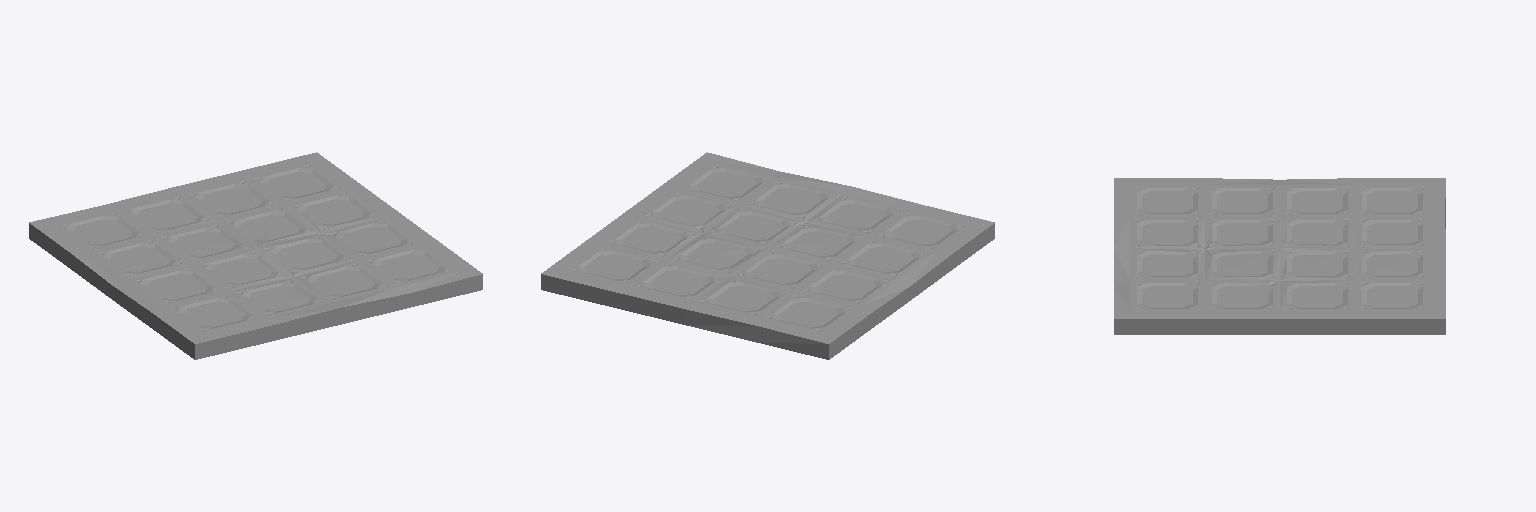
Rendered from platform-1.obj.
The picture shows the model from 3 angles: view 1: azimuth 30°, elevation 25°; view 2: azimuth 150°, elevation 25°; view 3: azimuth 270°, elevation 25°; orthographic projection.
Visible parts, largest first — view 1: Cube_Cube.016; view 2: Cube_Cube.016; view 3: Cube_Cube.016.
Part boxes in pixels (left/top/right/bottom): Cube_Cube.016: left=29, top=152, right=482, bottom=359; Cube_Cube.016: left=541, top=152, right=994, bottom=359; Cube_Cube.016: left=1114, top=178, right=1445, bottom=334.
Bounding box in the file's own units: 7.96 × 0.4625 × 7.96.